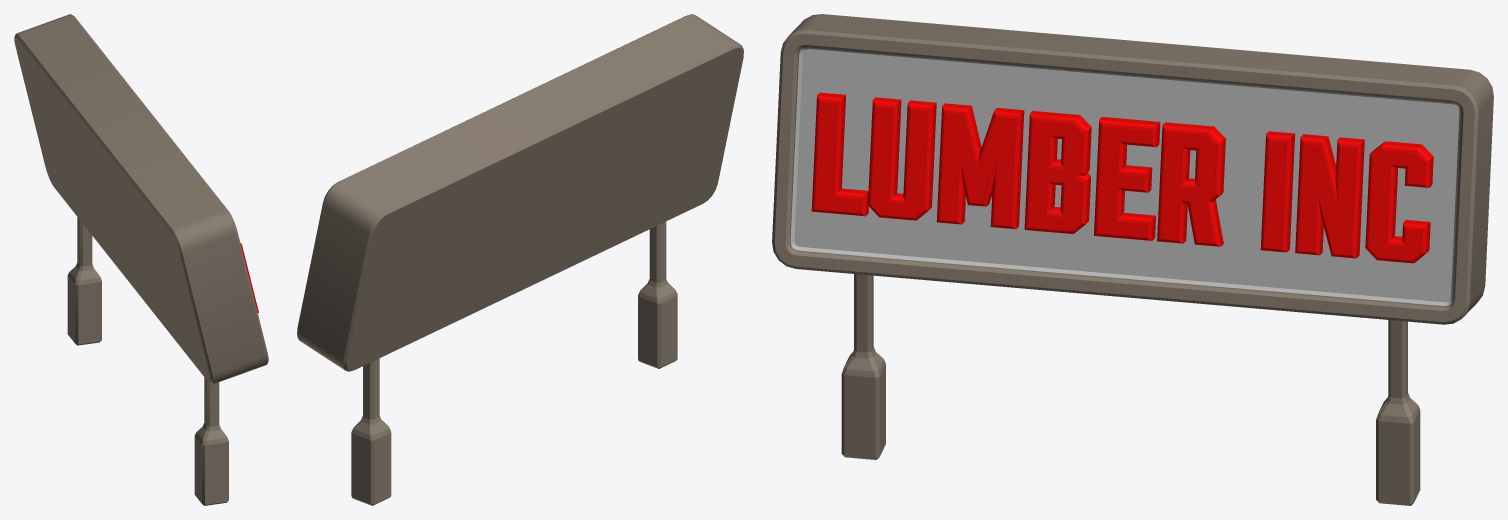
The model's file is Billboard.fbx.
The picture shows the model from 3 angles, left to right: view 1: azimuth 30°, elevation 25°; view 2: azimuth 150°, elevation 25°; view 3: azimuth 270°, elevation 25°; orthographic projection. The views are drawn at different scales.
Parts seen in each view (by area): view 1: billboard; view 2: billboard; view 3: billboard, logo_billboard.
Part boxes in pixels (x1,y1,x2,y2): billboard: (14,14,268,505); billboard: (297,14,743,505); billboard: (772,14,1493,505); logo_billboard: (811,92,1433,263).
Bounding box in the file's own units: 198 × 338 × 530.
